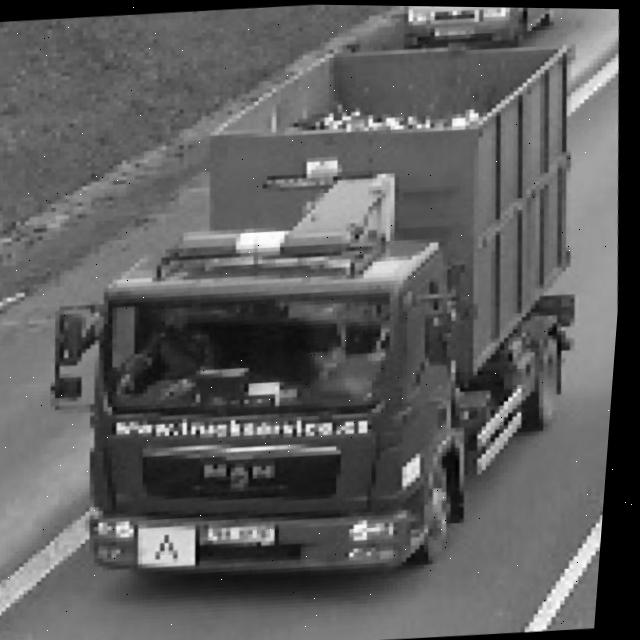truck: (23, 194, 515, 611)
